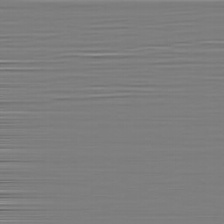cavities: (26, 54, 186, 168)
